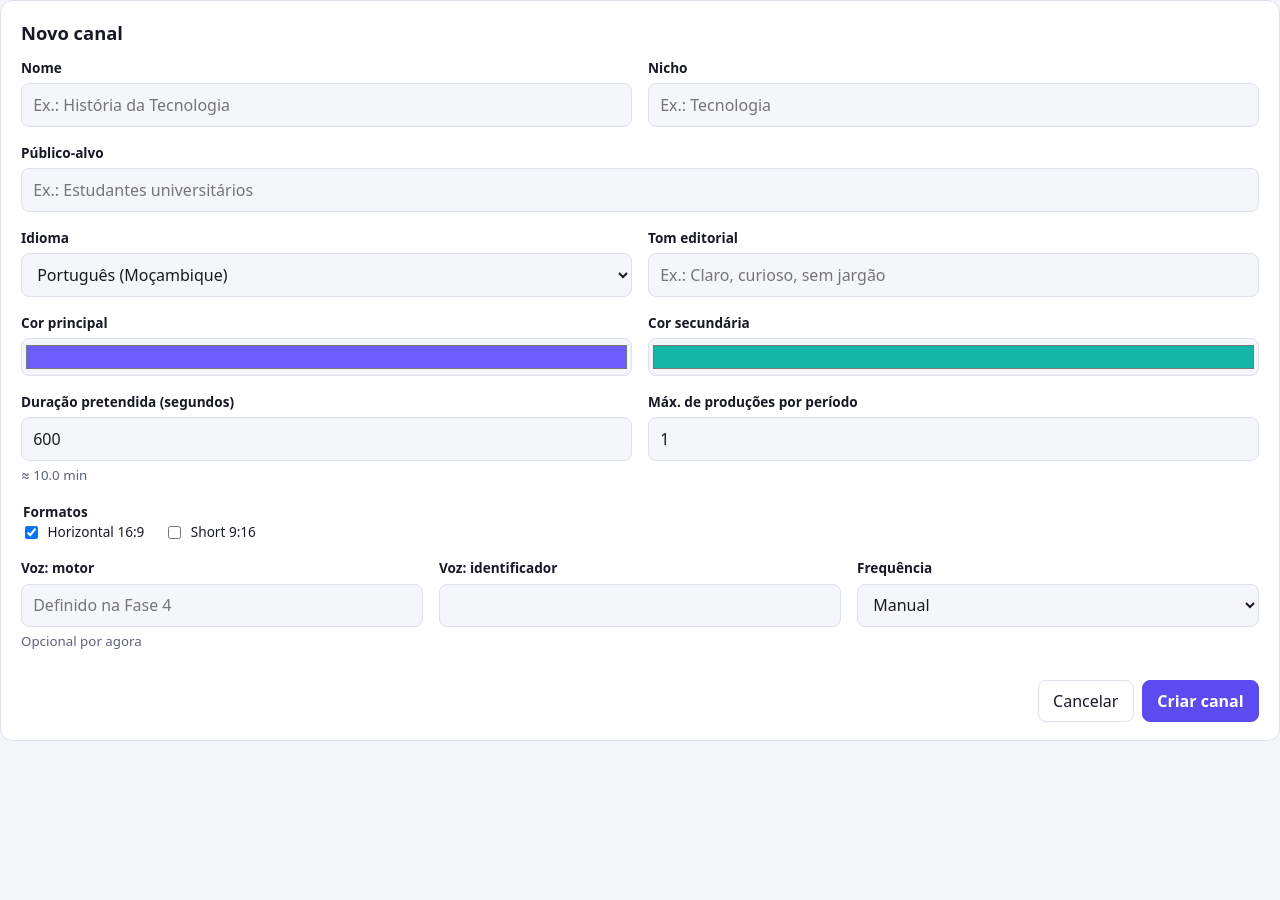
ChannelForm › mostra erros por campo e não submete dados inválidos
Click the button "Criar canal": (1200, 701) x1=1142 y1=680 x2=1259 y2=722
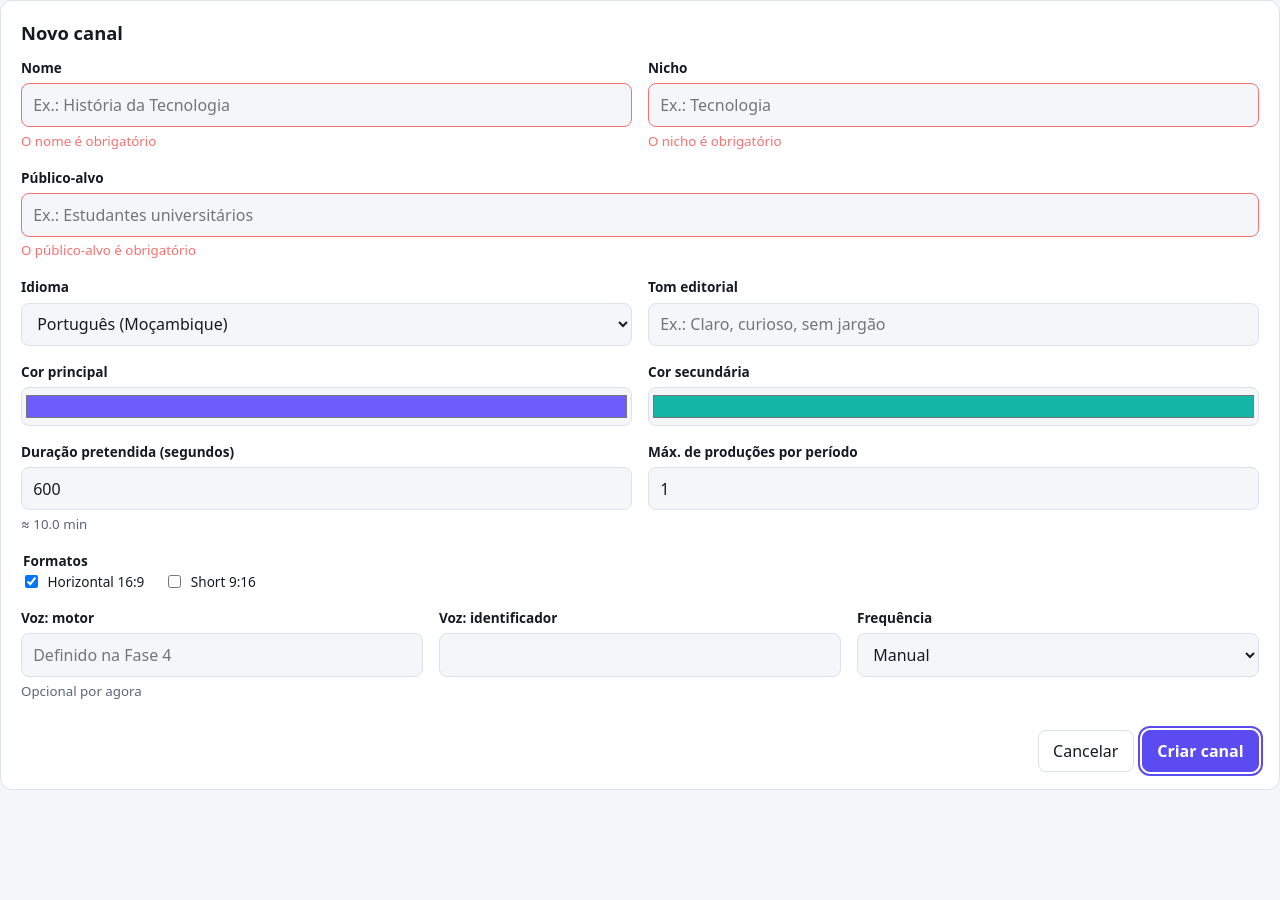
Check: the text "O nome é obrigatório" is shown, box x1=21 y1=132 x2=156 y2=150
